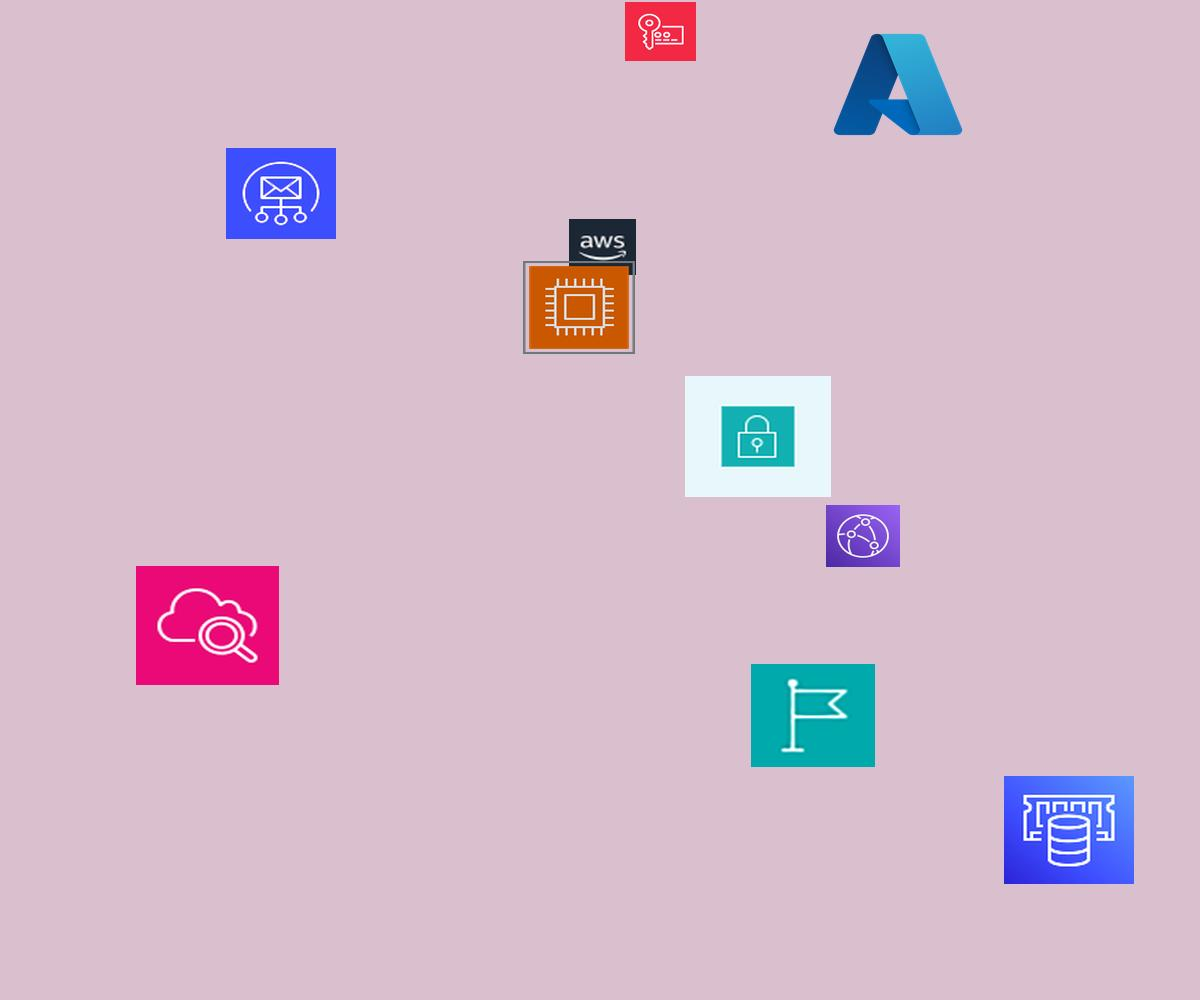AWS-Category_Compute: (523, 261, 635, 354)
AWS-Cloud-logo: (569, 219, 636, 275)
AWS-CloudFront: (826, 505, 900, 567)
AWS-CloudWatch: (136, 566, 279, 685)
AWS-ElastiCache: (1004, 776, 1134, 884)
AWS-Key-Management-Service: (625, 2, 696, 61)
AWS-Private-subnet: (685, 376, 831, 497)
AWS-Region: (751, 664, 875, 767)
AWS-Simple-Email-Service: (226, 148, 336, 239)
Azure_services: (828, 26, 968, 143)
